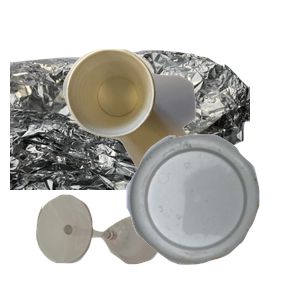glass: (34, 192, 187, 300)
metal: (10, 47, 250, 227)
plastic: (124, 132, 300, 300)
trash: (60, 47, 300, 227)
